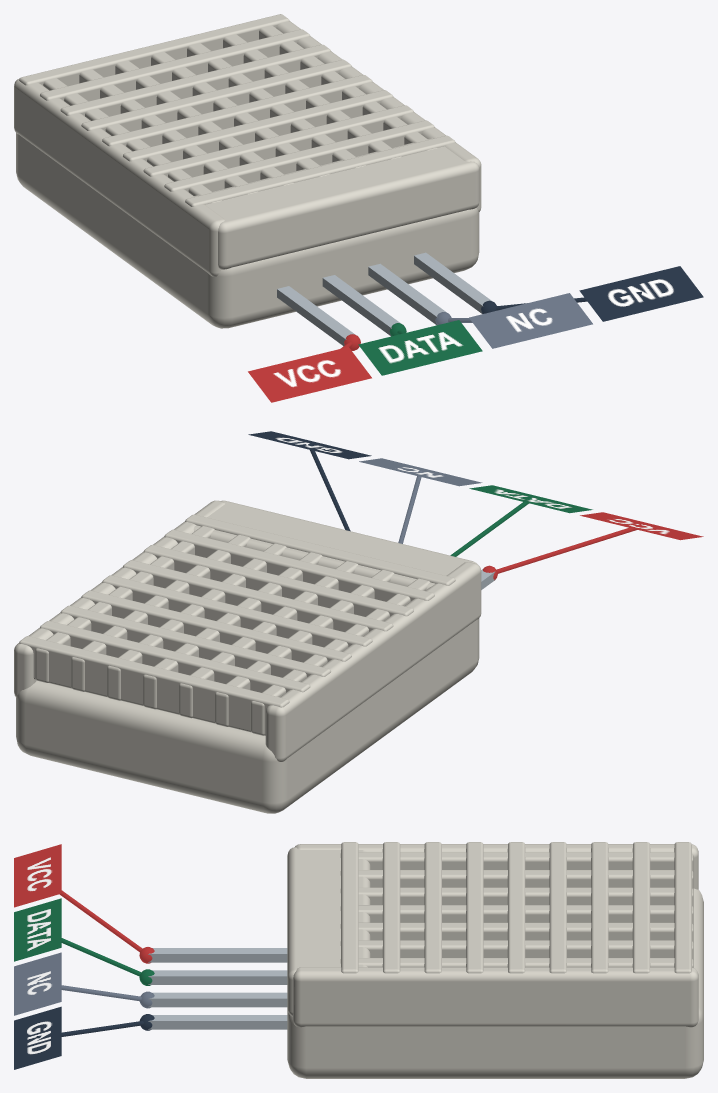
Rendered from dht22.glb.
The picture shows the model from 3 angles, top to bottom: view 1: azimuth 30°, elevation 25°; view 2: azimuth 150°, elevation 25°; view 3: azimuth 270°, elevation 25°; orthographic projection.
Visible parts, largest first — view 1: dht22, DATA, NC, VCC, GND, Terminal labels; view 2: dht22, Terminal labels, DATA, GND, VCC, NC; view 3: dht22, Terminal labels, DATA, NC, GND, VCC.
Boxes of the visible parts, box(x1,y1,x2,y2) form: dht22: box(14, 14, 492, 346); DATA: box(358, 320, 482, 375); NC: box(469, 293, 592, 348); VCC: box(248, 347, 371, 402); GND: box(579, 266, 703, 321); Terminal labels: box(308, 291, 641, 375); dht22: box(14, 500, 495, 813); Terminal labels: box(308, 443, 641, 580); DATA: box(469, 485, 592, 513); GND: box(248, 431, 371, 459); VCC: box(580, 512, 703, 540); NC: box(359, 458, 482, 486); dht22: box(148, 842, 703, 1078); Terminal labels: box(36, 874, 154, 1038); DATA: box(14, 898, 61, 961); NC: box(14, 952, 61, 1015); GND: box(14, 1006, 61, 1069); VCC: box(14, 844, 61, 907).
Size of the model in its own units: 0.0241 by 0.006 by 0.0331.
11 materials, 4 textured.
